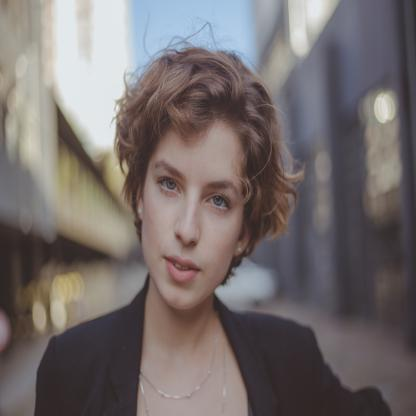Eye: (201, 192, 232, 214), (156, 175, 183, 197)
Mouth: (164, 255, 200, 283)
Nose: (175, 197, 200, 245)
